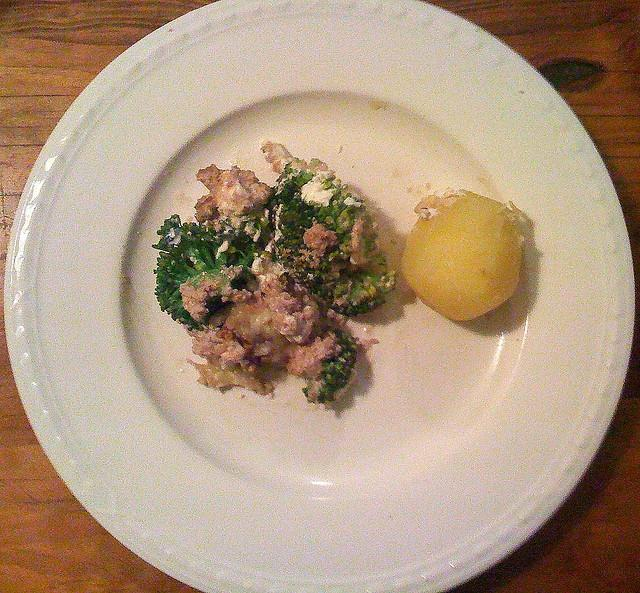broccoli: (264, 157, 396, 316), (150, 212, 272, 332), (302, 329, 358, 404)
